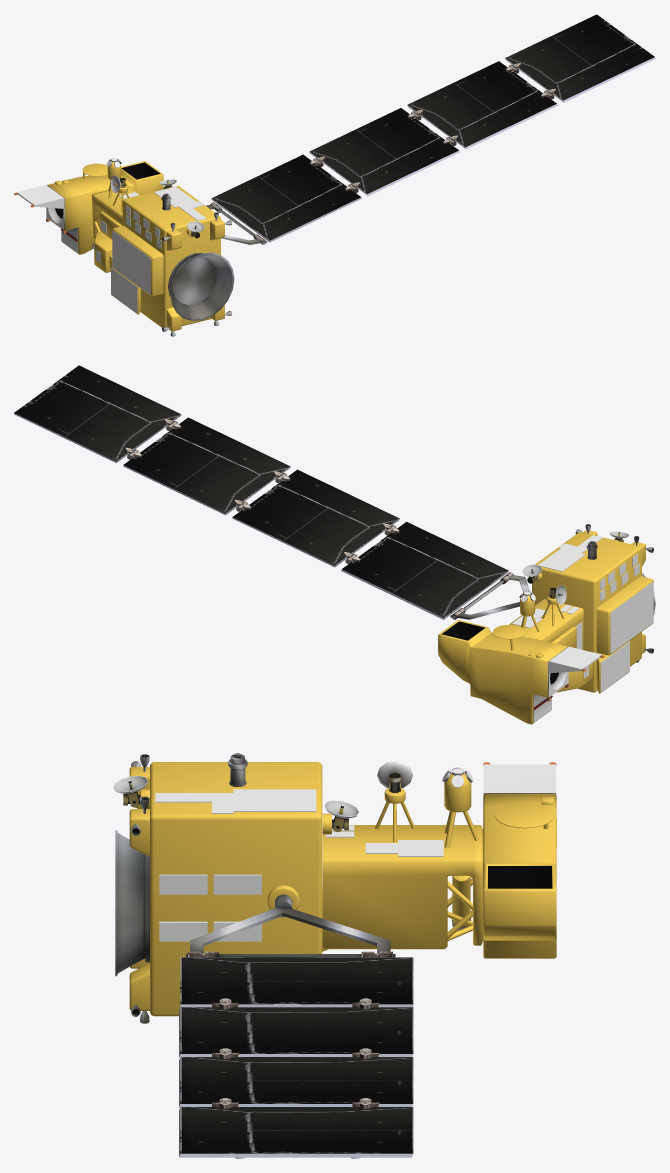
File: LandSat7.glb
The picture shows the model from 3 angles, top to bottom: view 1: azimuth 30°, elevation 25°; view 2: azimuth 150°, elevation 25°; view 3: azimuth 270°, elevation 25°; orthographic projection. The views are drawn at different scales.
Visible parts, largest first — view 1: instruments, BUS, Reflectors; view 2: instruments, BUS, Reflectors; view 3: instruments, BUS, Reflectors.
Boxes of the visible parts, x1=… form: instruments: x1=14, y1=14, x2=655, y2=336; BUS: x1=47, y1=161, x2=224, y2=331; Reflectors: x1=96, y1=186, x2=206, y2=313; instruments: x1=14, y1=365, x2=655, y2=722; BUS: x1=438, y1=530, x2=653, y2=724; Reflectors: x1=512, y1=535, x2=653, y2=692; instruments: x1=113, y1=753, x2=556, y2=1157; BUS: x1=129, y1=762, x2=556, y2=1016; Reflectors: x1=155, y1=789, x2=443, y2=941.
Bounding box in the file's own units: 13.4 × 3.78 × 4.7.
Materials: 7 (3 with a texture image).
